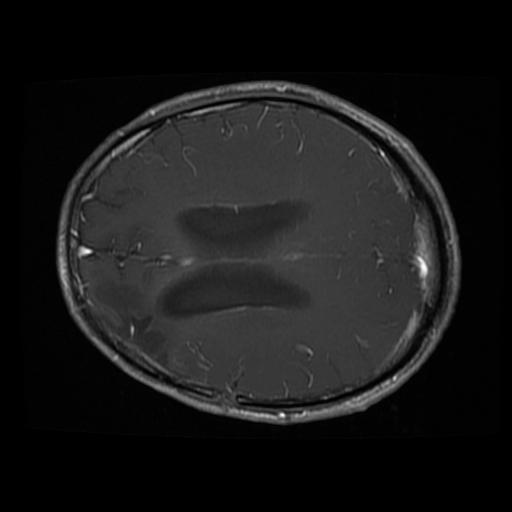glioma: (94, 281, 170, 369)
